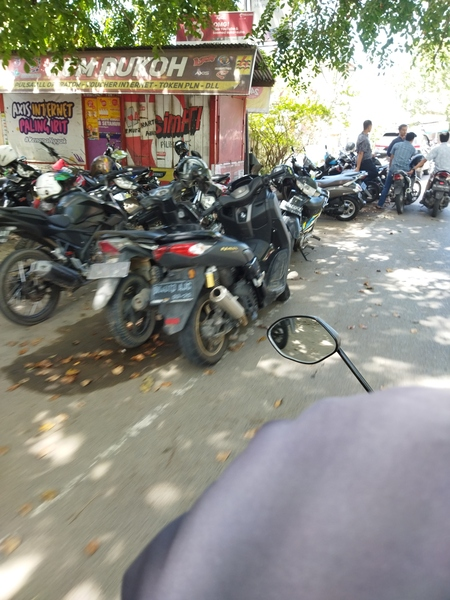motorcycle: (153, 165, 302, 374), (85, 171, 200, 352), (389, 164, 423, 218), (423, 168, 450, 222)
person: (355, 115, 382, 205), (424, 128, 450, 210), (389, 130, 420, 196)
